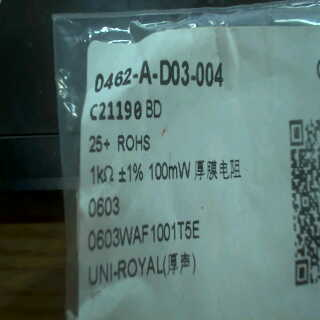1kR: (88, 159, 116, 190)
